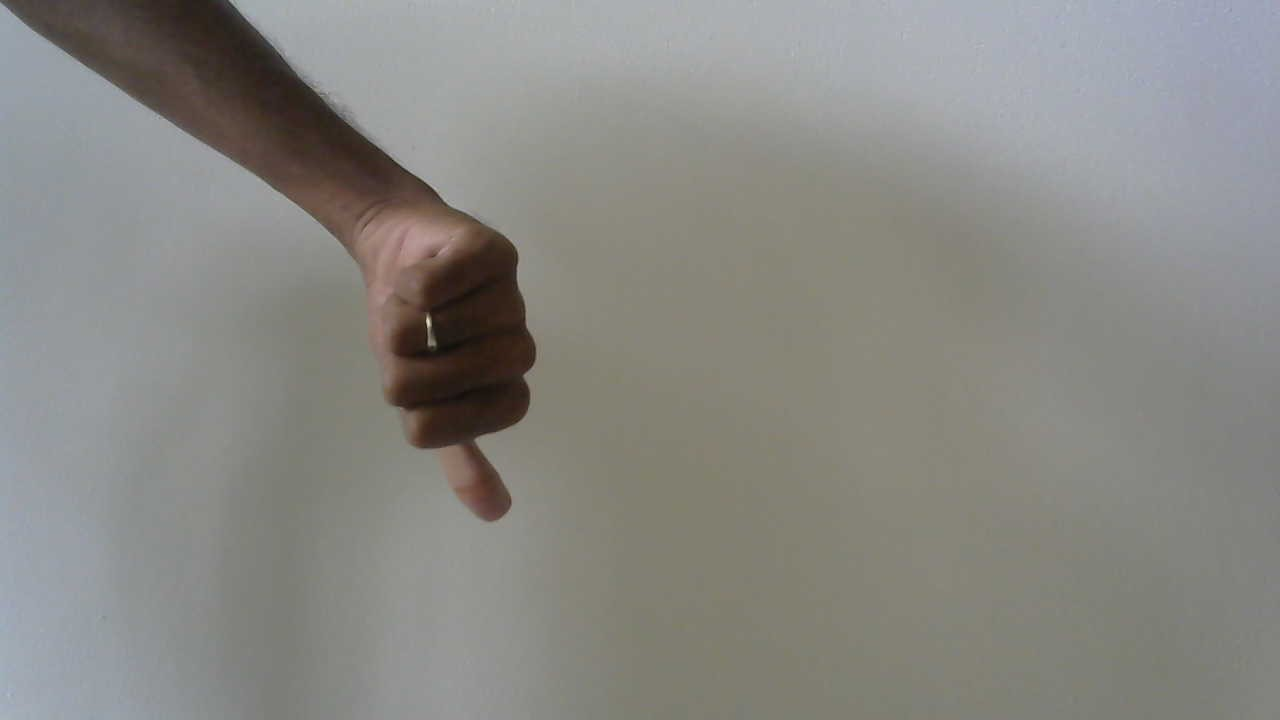thumbsdown: (346, 111, 575, 540)
